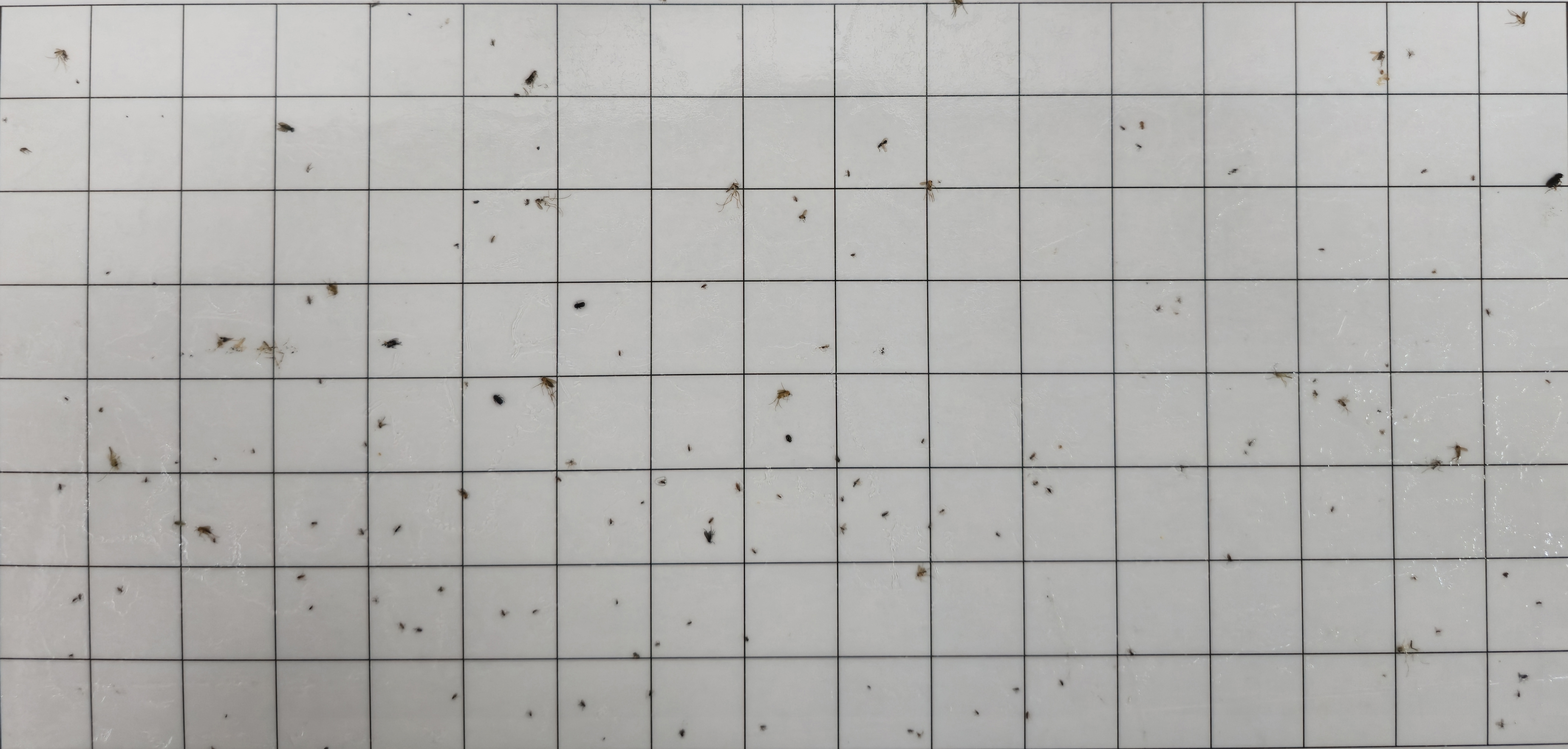test: (718, 180, 741, 209), (539, 374, 561, 396), (1507, 6, 1528, 27), (919, 179, 939, 201), (535, 196, 563, 211), (1449, 443, 1468, 463), (106, 447, 122, 470), (1546, 173, 1564, 190), (383, 335, 401, 351), (951, 0, 966, 18), (1274, 370, 1293, 384), (1370, 50, 1386, 66), (54, 47, 70, 63), (325, 281, 340, 297), (525, 70, 540, 86), (775, 388, 792, 402), (277, 121, 295, 134), (703, 527, 716, 544), (491, 393, 506, 406), (877, 137, 889, 153), (196, 525, 213, 536), (456, 486, 469, 500), (916, 565, 928, 580), (1378, 69, 1390, 82), (376, 417, 388, 430), (565, 457, 577, 469), (1430, 459, 1443, 470), (798, 209, 809, 222), (574, 300, 586, 311), (734, 480, 743, 494), (19, 145, 33, 154), (72, 592, 83, 603), (305, 294, 315, 306), (219, 334, 233, 342), (172, 519, 186, 527), (658, 477, 668, 488), (1495, 718, 1506, 728), (369, 1, 380, 11), (839, 523, 848, 535), (1338, 398, 1347, 409), (705, 516, 716, 525), (1518, 672, 1529, 681), (1501, 570, 1510, 580), (1433, 627, 1443, 636), (393, 524, 401, 535), (1138, 119, 1146, 130), (1225, 553, 1234, 562), (632, 651, 641, 660), (1396, 645, 1405, 654), (852, 478, 860, 488), (678, 728, 686, 738), (785, 433, 793, 442), (1028, 452, 1037, 460), (500, 608, 508, 617), (1407, 49, 1415, 58), (116, 585, 125, 593), (296, 573, 306, 580), (1134, 142, 1144, 149), (881, 510, 889, 518), (974, 709, 982, 717), (555, 475, 563, 483), (437, 585, 445, 593), (579, 700, 587, 708), (489, 235, 497, 243), (1177, 465, 1186, 472), (1534, 599, 1543, 606), (775, 493, 784, 500), (310, 520, 319, 527), (524, 197, 531, 206), (57, 482, 64, 491), (1485, 309, 1492, 317), (1058, 679, 1065, 687), (1012, 686, 1020, 693), (1022, 712, 1029, 720), (743, 635, 750, 643), (608, 517, 615, 525), (358, 528, 365, 536), (532, 607, 539, 615), (759, 724, 767, 731), (907, 728, 915, 735), (844, 169, 851, 177), (792, 195, 799, 203), (306, 164, 312, 173), (820, 345, 830, 350), (700, 283, 707, 290), (373, 597, 380, 604), (451, 693, 458, 700), (453, 242, 460, 249), (617, 350, 623, 358), (1156, 304, 1162, 312), (399, 621, 405, 629), (416, 627, 424, 633), (654, 641, 662, 647), (648, 689, 654, 697), (880, 347, 886, 355), (1230, 168, 1238, 174), (490, 39, 496, 47), (750, 548, 759, 553), (939, 508, 945, 515), (1046, 487, 1052, 494), (1033, 480, 1039, 487), (1312, 390, 1318, 397), (1421, 168, 1428, 174), (1128, 650, 1135, 656), (866, 684, 873, 690), (308, 604, 314, 611), (687, 620, 694, 626), (917, 732, 923, 739), (1120, 124, 1126, 131), (473, 199, 480, 205), (75, 78, 81, 85), (2, 116, 8, 123), (152, 281, 158, 288), (251, 448, 257, 455), (68, 653, 75, 659), (513, 93, 521, 98), (464, 380, 469, 388), (1329, 506, 1335, 512), (1247, 440, 1253, 446), (1379, 429, 1385, 435), (1431, 269, 1437, 275), (528, 711, 534, 717), (927, 524, 933, 530), (1412, 575, 1418, 581), (1381, 673, 1387, 679), (105, 270, 111, 276), (64, 396, 70, 402), (174, 459, 180, 465), (1545, 379, 1552, 384), (1516, 691, 1521, 698), (850, 252, 857, 257), (98, 406, 103, 413), (835, 456, 840, 462), (1384, 362, 1389, 368), (640, 500, 646, 505), (615, 599, 620, 605), (1058, 443, 1063, 449), (407, 11, 412, 17), (144, 477, 149, 483), (212, 537, 217, 543), (290, 350, 296, 355), (1318, 247, 1325, 251), (318, 377, 322, 384), (224, 713, 228, 720), (364, 441, 368, 448), (687, 446, 692, 451), (995, 532, 1000, 537), (602, 736, 607, 741), (921, 438, 925, 444), (1471, 175, 1475, 181), (536, 146, 540, 152), (377, 452, 383, 456), (1377, 409, 1382, 413), (1312, 379, 1317, 383), (213, 456, 217, 461), (1046, 594, 1050, 599), (938, 181, 942, 185), (181, 352, 185, 356), (125, 114, 129, 118), (161, 114, 165, 118), (1145, 281, 1149, 285), (841, 497, 844, 502), (190, 353, 193, 358), (1244, 451, 1247, 454)
